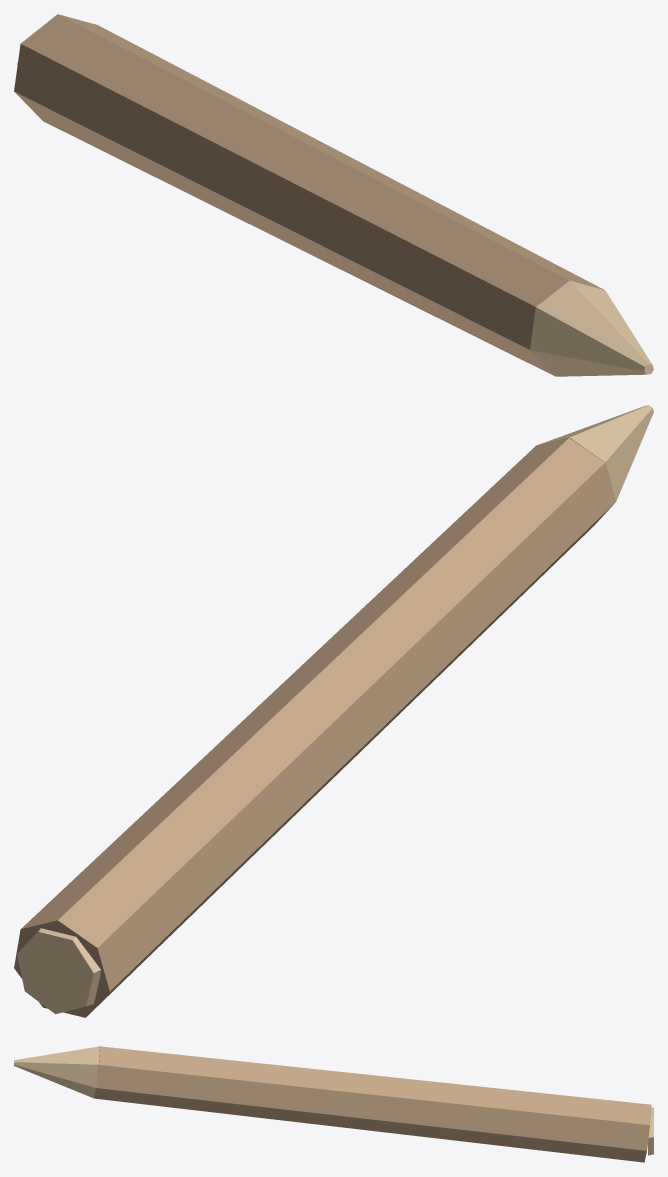
The model's file is prop_carry_log.glb.
3 renders of one model, top to bottom at view 1: azimuth 30°, elevation 25°; view 2: azimuth 150°, elevation 25°; view 3: azimuth 270°, elevation 25°, orthographic. The views are drawn at different scales.
Parts seen in each view (by area): view 1: prop_carry_log; view 2: prop_carry_log; view 3: prop_carry_log.
Part boxes in pixels (bbox=[...]): prop_carry_log: bbox=[14, 14, 653, 376]; prop_carry_log: bbox=[14, 405, 653, 1017]; prop_carry_log: bbox=[14, 1046, 653, 1162].
Size of the model in its own units: 0.195 by 0.3989 by 2.09.
